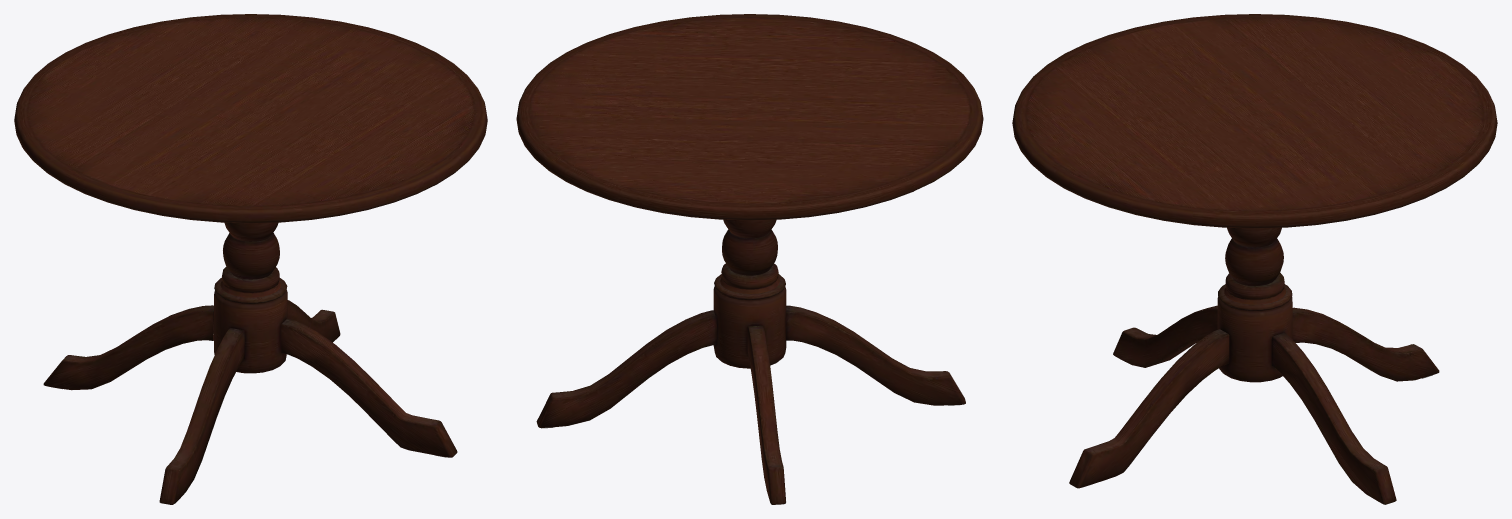
Rendered from old-table.glb.
3 views of the same model, side by side, from view 1: azimuth 30°, elevation 25°; view 2: azimuth 150°, elevation 25°; view 3: azimuth 270°, elevation 25° (orthographic). The views are drawn at different scales.
Parts seen in each view (by area): view 1: old-table; view 2: old-table; view 3: old-table.
Boxes of the visible parts, left/top/right/bottom form: old-table: left=14, top=14, right=487, bottom=504; old-table: left=516, top=14, right=983, bottom=504; old-table: left=1012, top=14, right=1497, bottom=504.
Bounding box in the file's own units: 1.4 × 1 × 1.4.
1 material, 1 textured.
